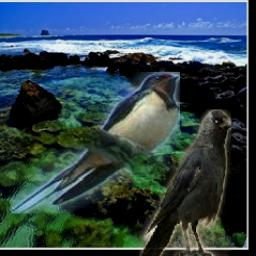Crow: (139, 109, 231, 256)
Swallow: (13, 72, 181, 213)
